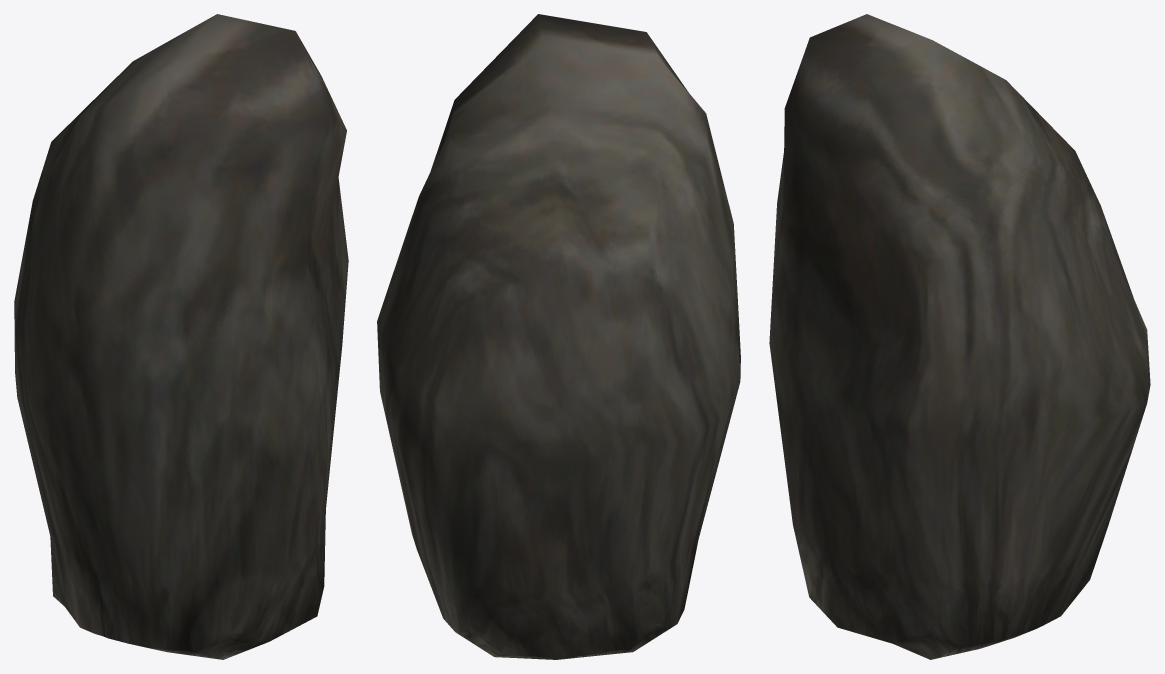
Rendered from Stone2pCube8Shape.dae.
3 renders of one model, left to right at view 1: azimuth 30°, elevation 25°; view 2: azimuth 150°, elevation 25°; view 3: azimuth 270°, elevation 25°, orthographic. The views are drawn at different scales.
Parts seen in each view (by area): view 1: Stone2_pCube8; view 2: Stone2_pCube8; view 3: Stone2_pCube8.
Part boxes in pixels (x1,y1,x2,y2): Stone2_pCube8: (14,14,348,659); Stone2_pCube8: (377,14,740,659); Stone2_pCube8: (769,14,1150,659).
Bounding box in the file's own units: 5.03 × 8.97 × 5.26.
